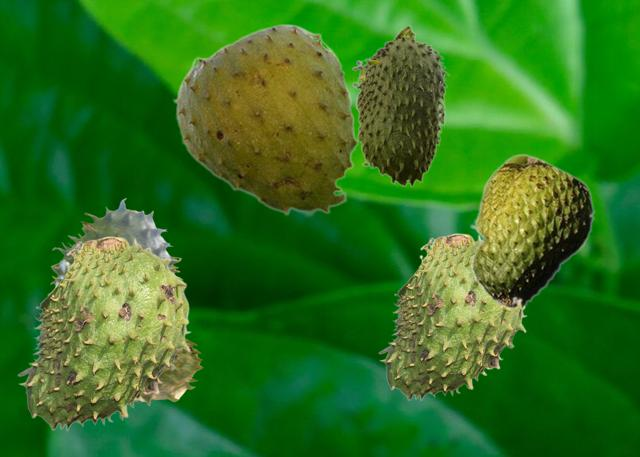guyabano: (172, 23, 358, 217), (47, 198, 202, 419), (17, 236, 190, 430), (378, 233, 526, 400), (469, 153, 594, 310), (352, 24, 449, 186)
